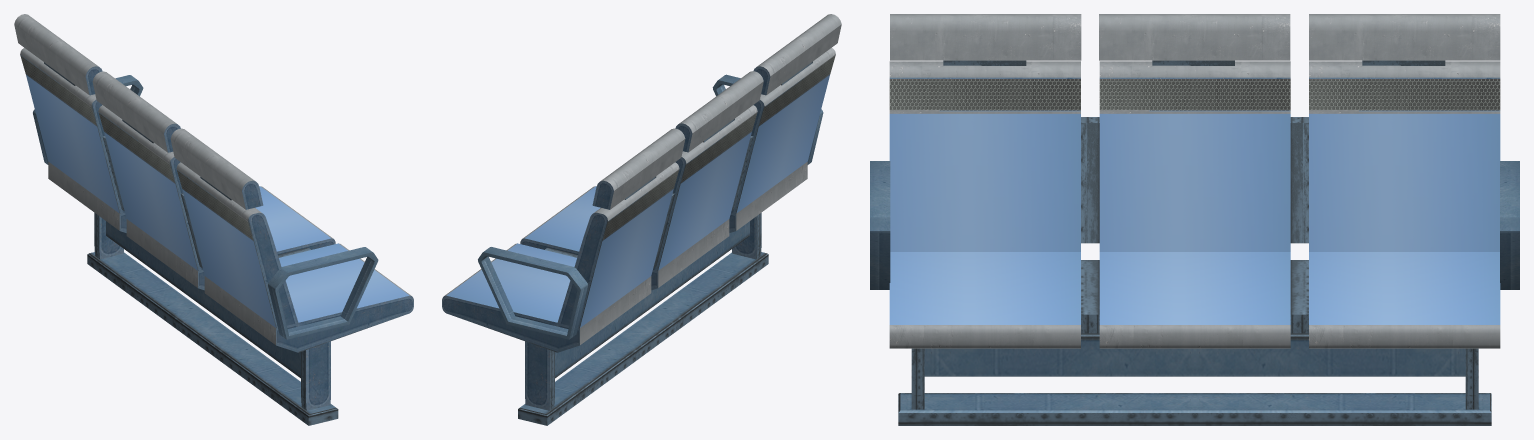
File: Bench01a.FBX
The picture shows the model from 3 angles, left to right: view 1: azimuth 30°, elevation 25°; view 2: azimuth 150°, elevation 25°; view 3: azimuth 270°, elevation 25°; orthographic projection. The views are drawn at different scales.
Parts seen in each view (by area): view 1: Bench01a; view 2: Bench01a; view 3: Bench01a.
Part boxes in pixels (box(x1,y1,x2,y2)): Bench01a: box(14, 14, 413, 425); Bench01a: box(442, 14, 841, 425); Bench01a: box(870, 14, 1519, 425).
Bounding box in the file's own units: 926 × 1349 × 2263.
